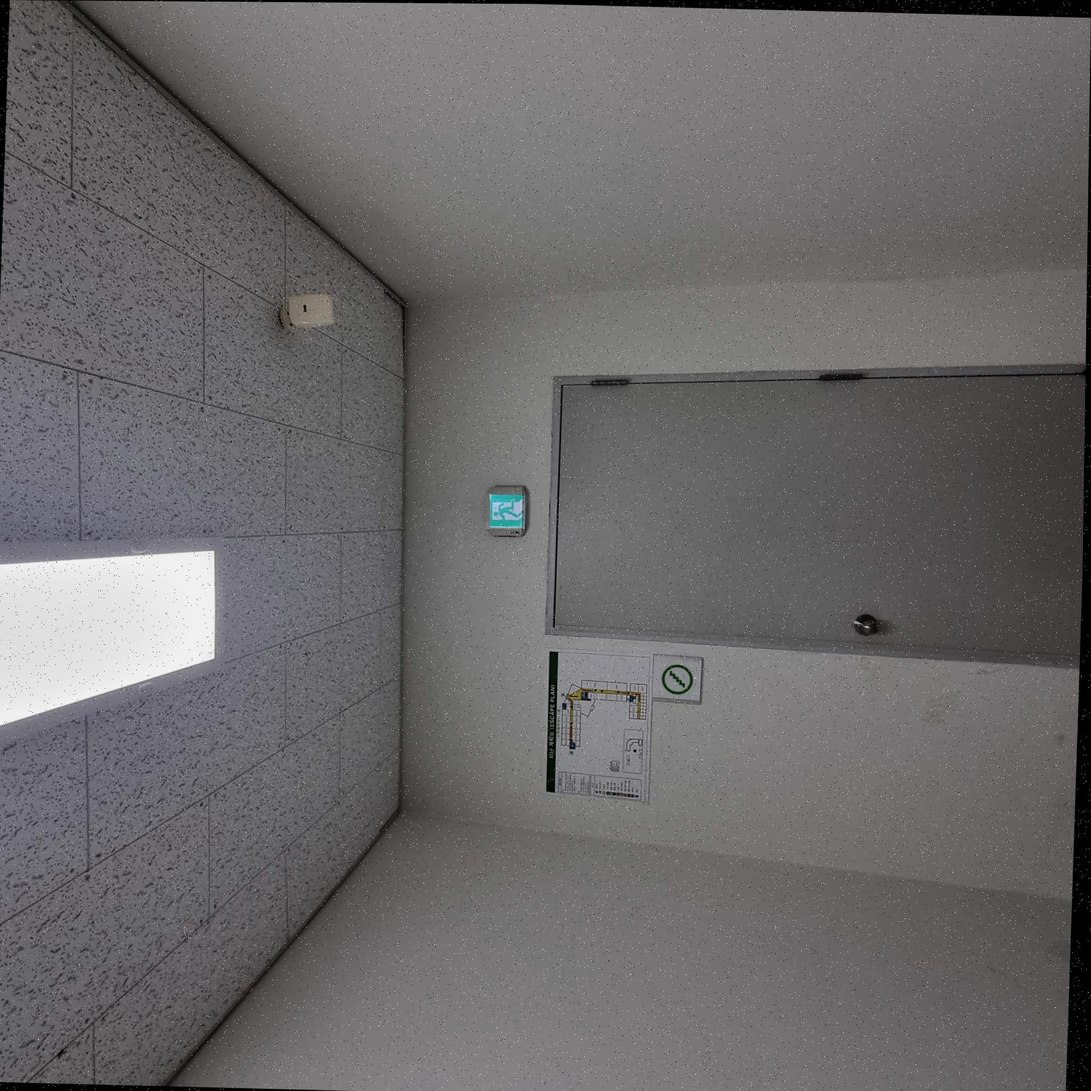emergency_exit: (545, 649, 653, 804), (652, 652, 704, 704), (486, 484, 528, 536)
